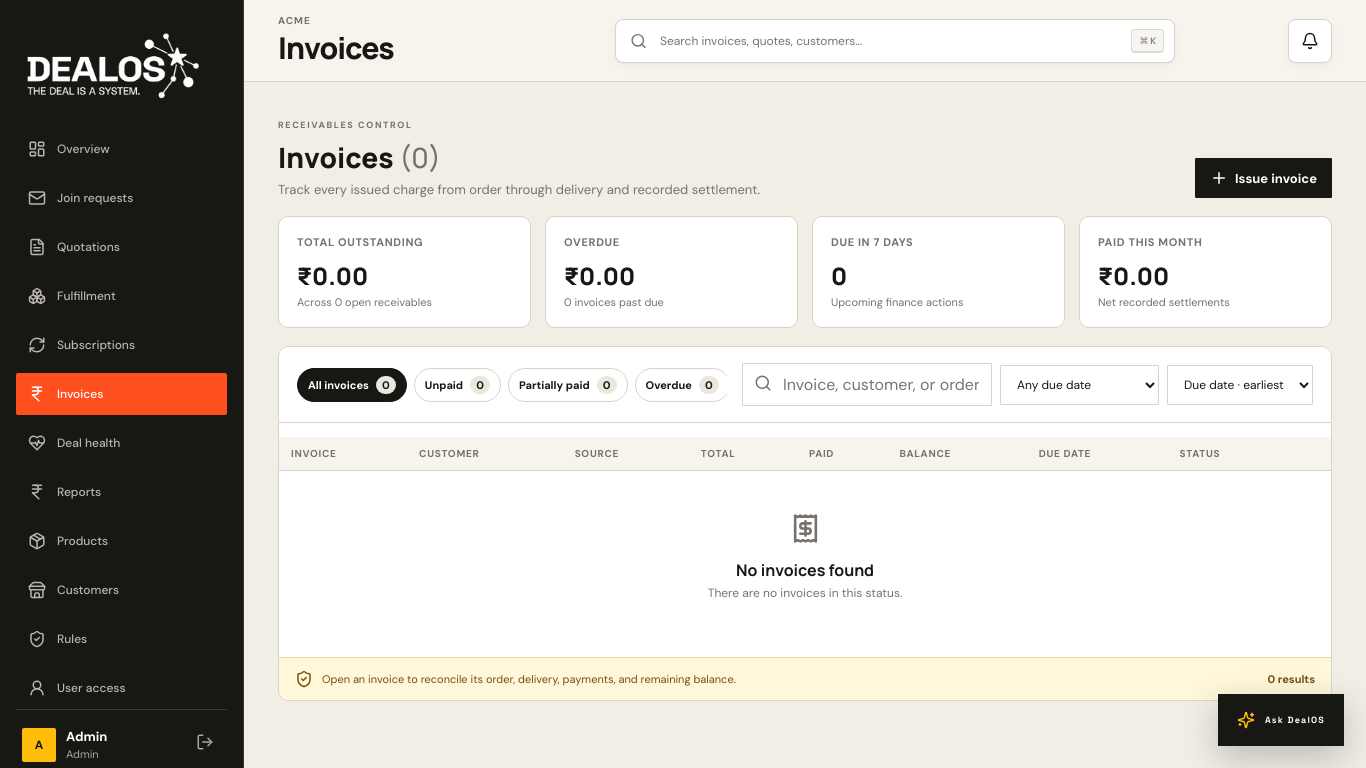
DealOS public routes › does not expose a free-form invoice builder outside a confirmed order
Expected: the heading "Invoices" is shown, [278, 26, 394, 68]
Step 1. Click the button "Issue invoice" → (1264, 178), box [1195, 158, 1332, 198]
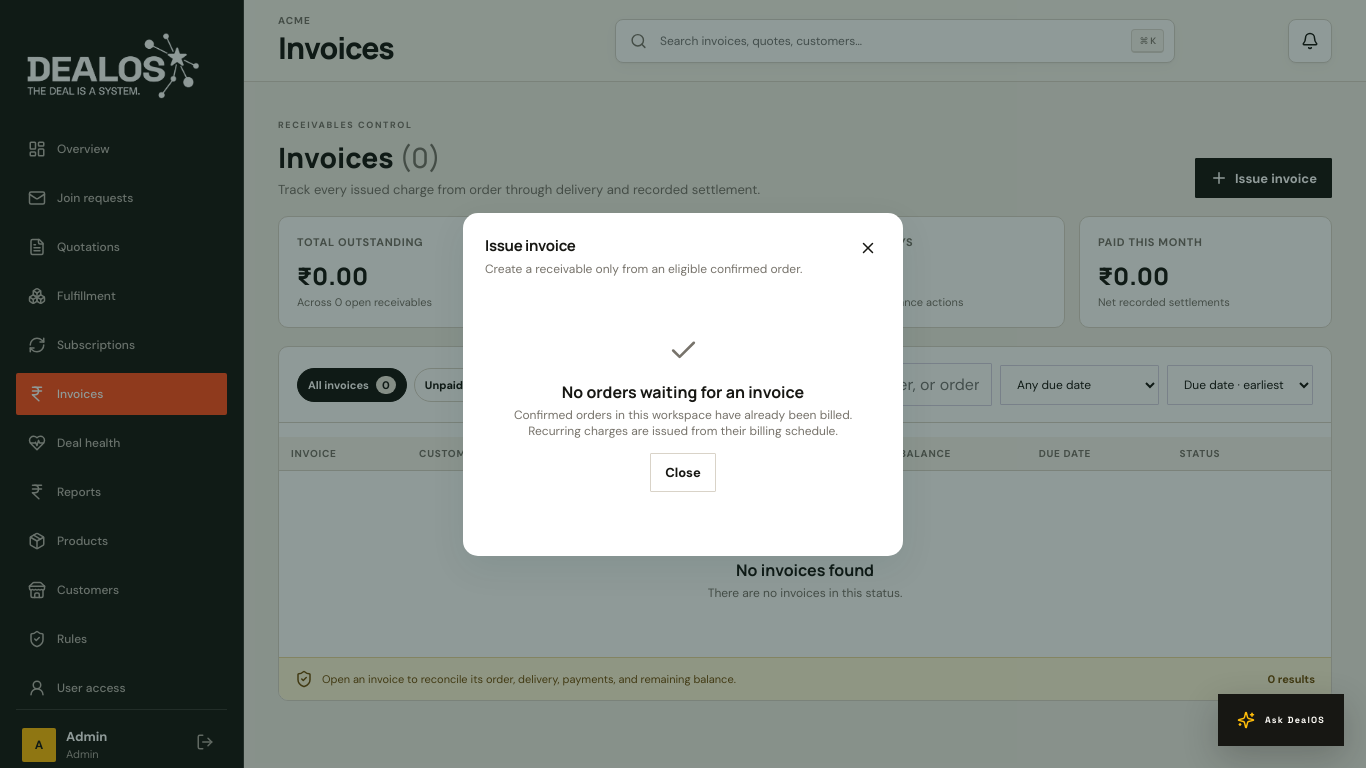
Expected: the dialog "Issue invoice" is shown, [463, 212, 903, 556]
Expected: the heading "No orders waiting for an invoice" is shown, [562, 380, 804, 402]
